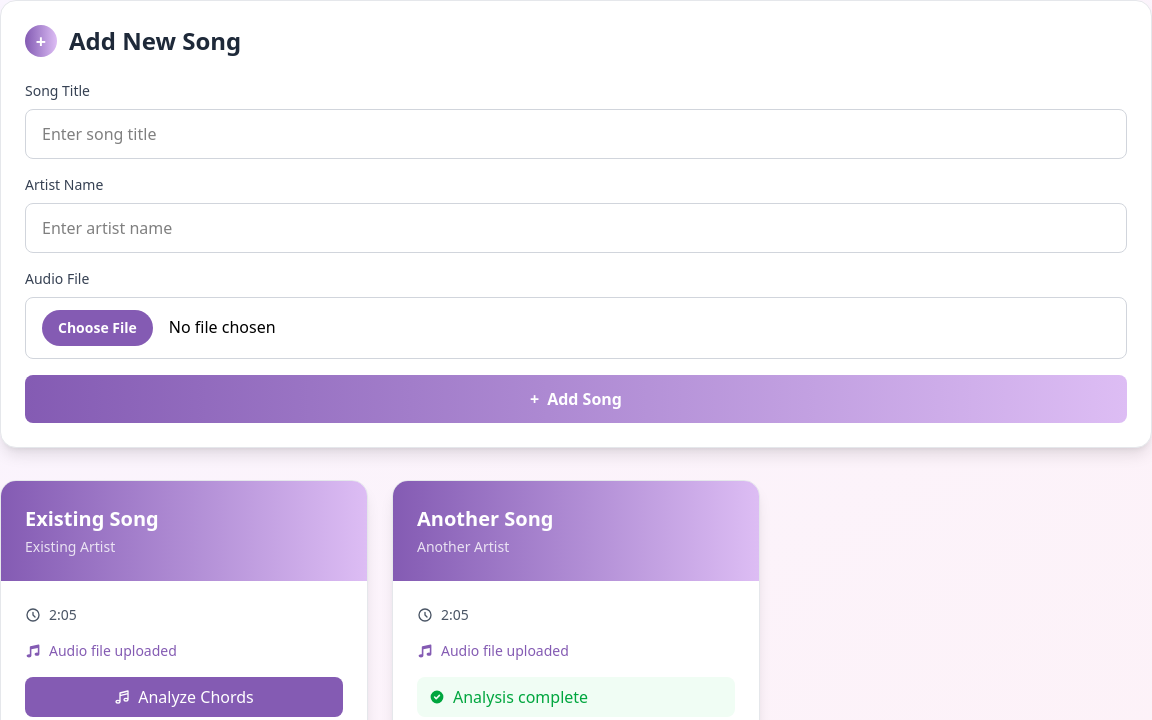
Test: SongListPage › preserves other songs when analyzing a selected song
The image size is (1152, 720).
Step 1. Click the button "Analyze Chords" → (184, 697), box [25,677,343,717]
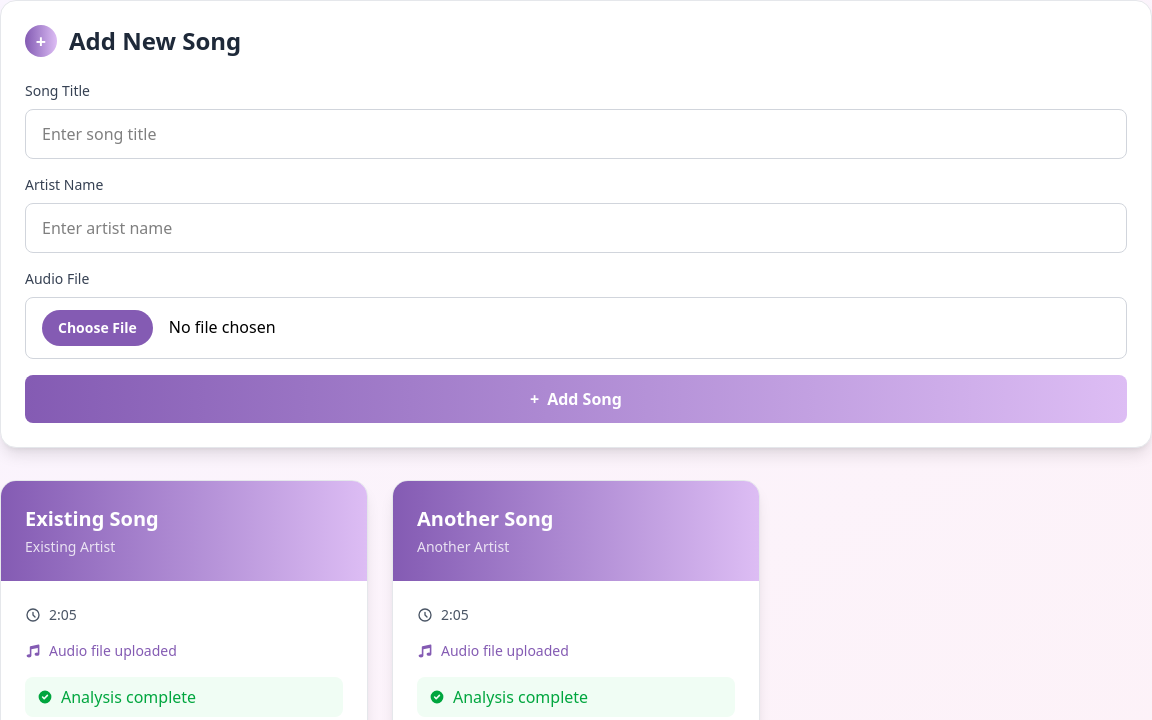
Check: the heading "Existing Song" is shown, box [25,505,159,532]
Check: the text "Analysis complete" is shown 2 times, box [25,677,343,717]; [417,677,735,717]
